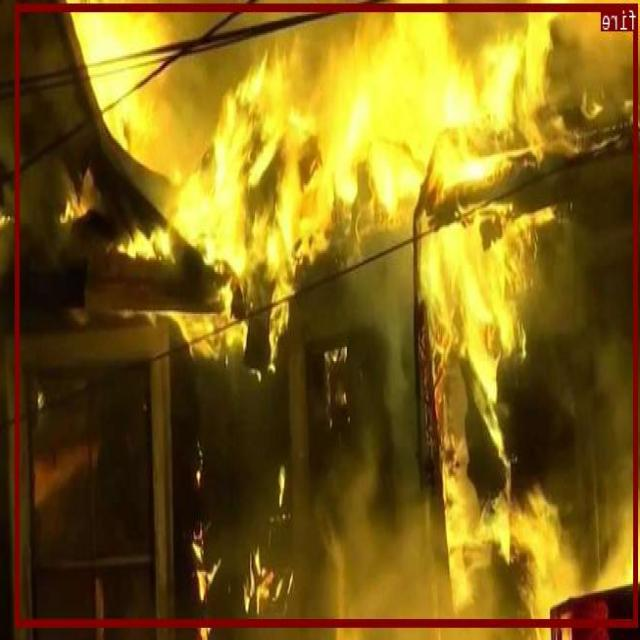fire: (16, 2, 638, 626)
